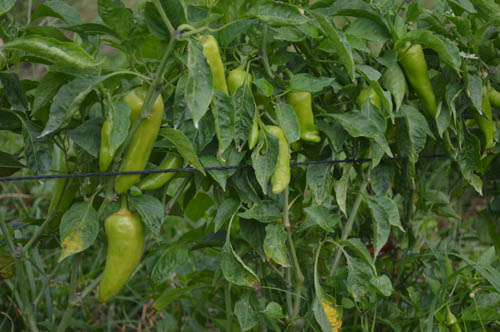ChiliPepper: (117, 90, 160, 189), (99, 214, 142, 302), (402, 42, 438, 114), (196, 37, 226, 120), (226, 72, 260, 145), (261, 125, 292, 190), (285, 87, 321, 141), (141, 151, 180, 194), (98, 108, 120, 168), (356, 88, 385, 122)
